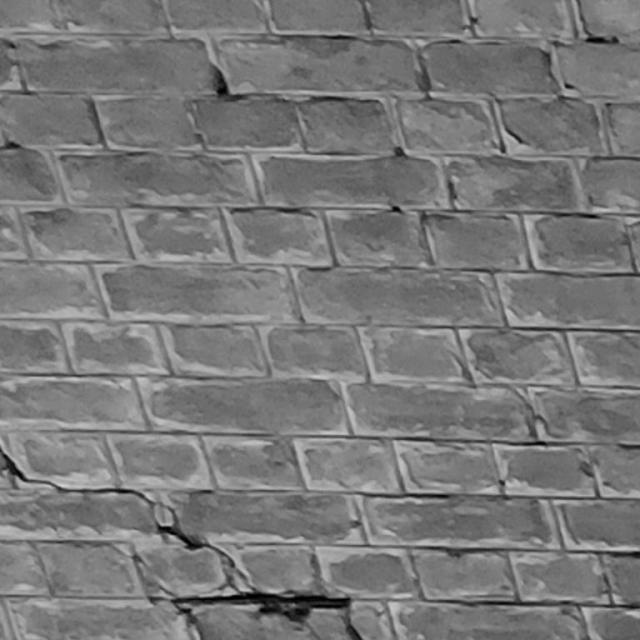crack: (1, 447, 361, 640)
